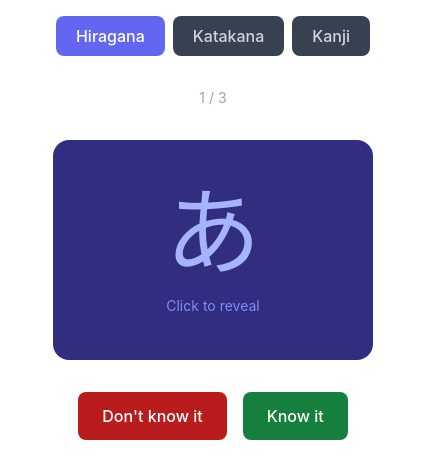
Test: FlashCardPage › kanji_mode_shows_empty_state_when_no_reviews_due
Expected: the button "Hiragana" is shown, [56,16,165,56]
Click the button "Kanji" at (331, 36), box [292,16,370,56]
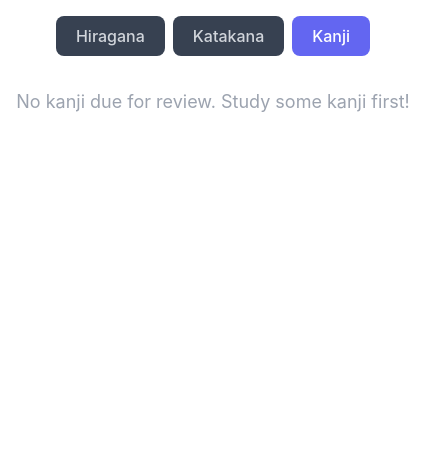
Now the text "No kanji due for review. Study some kanji first!" is shown, box [16,88,410,116]
